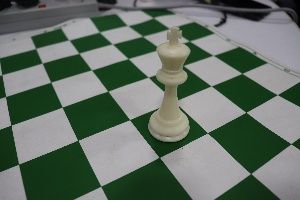white_king: (146, 17, 199, 147)
